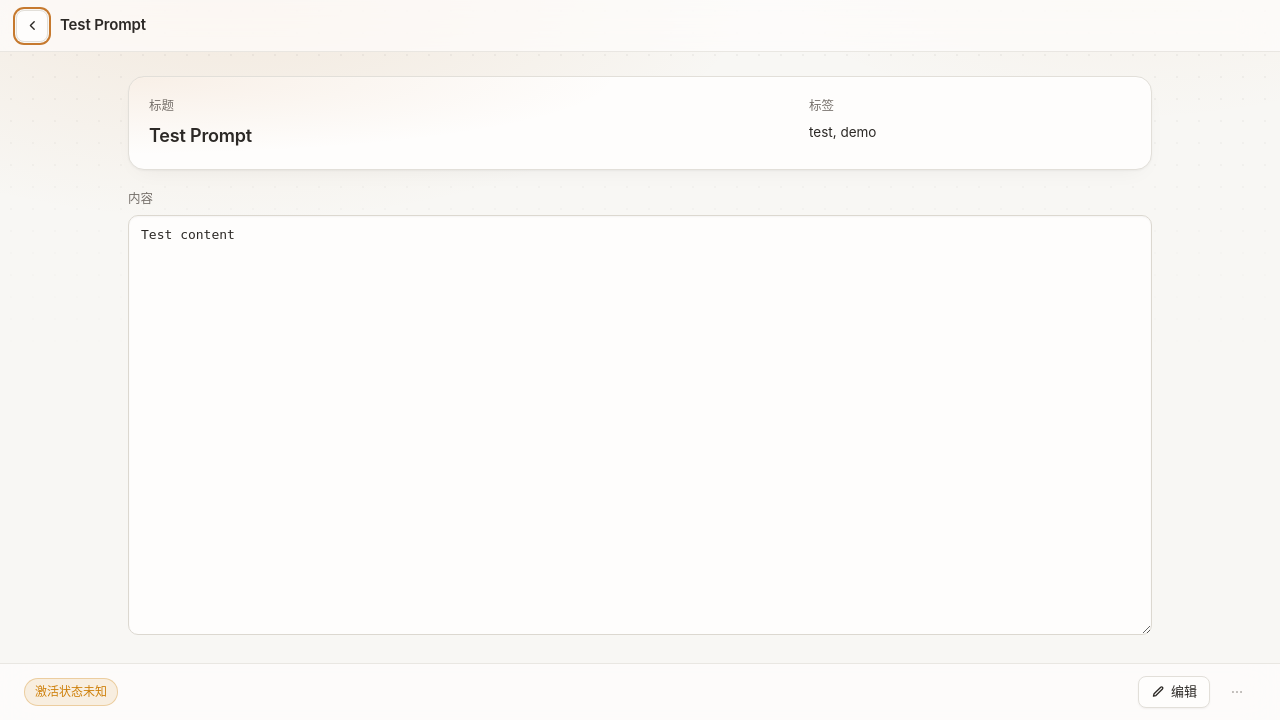
Test: PromptViewPage delete of the live prompt › still deletes a prompt that is not deployed, or whose state is unknown
The width and height of the screenshot is (1280, 720).
Click the button with test id "prompt-menu": (1237, 692) left=1218, top=676, right=1256, bottom=708
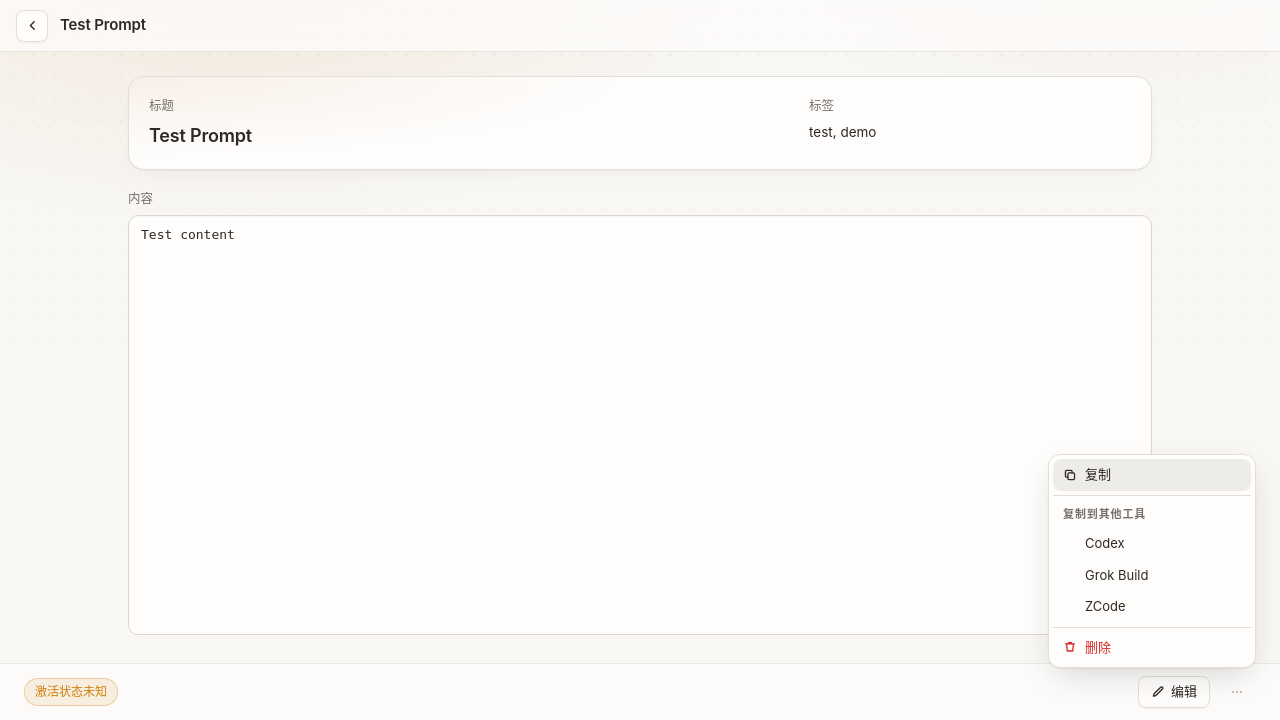
Result: the menu item with test id "prompt-delete" is enabled
Click the menu item with test id "prompt-delete": (1152, 647) left=1053, top=632, right=1251, bottom=663
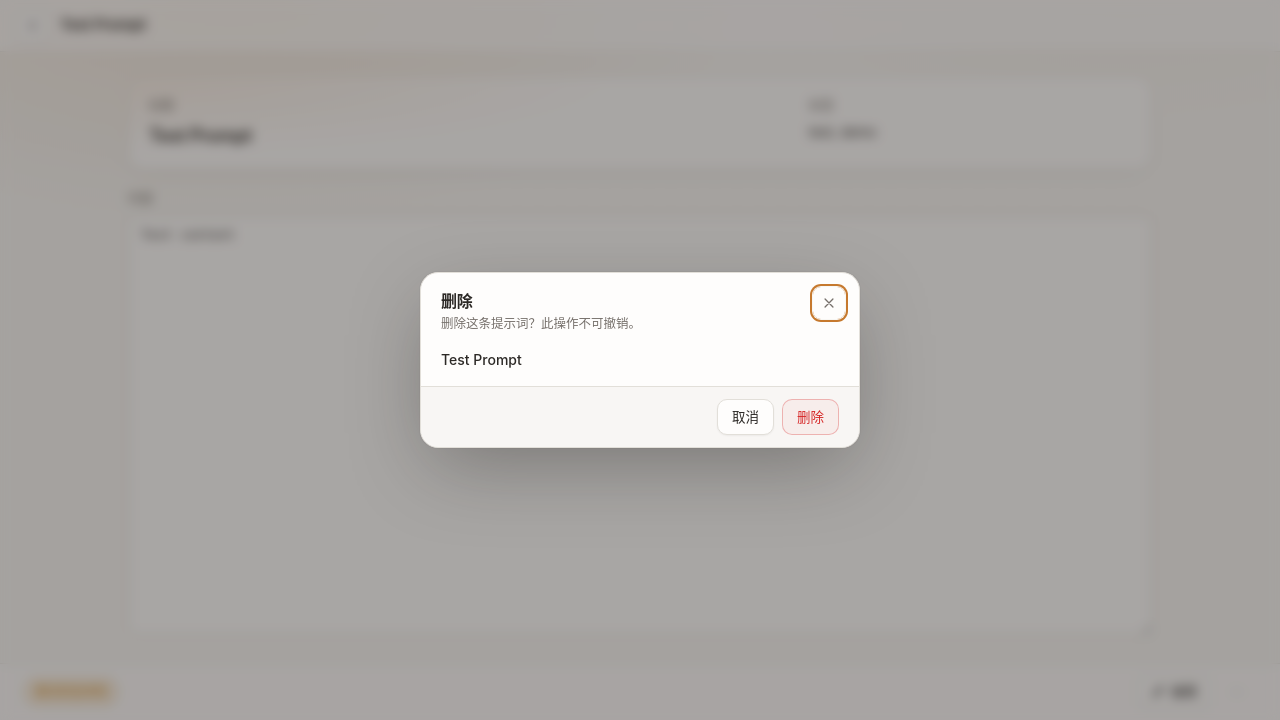
Result: the dialog "删除" is shown at left=420, top=272, right=860, bottom=448
